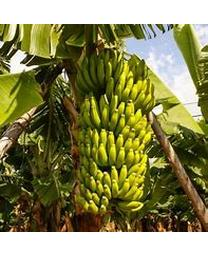banana: (71, 43, 155, 222)
